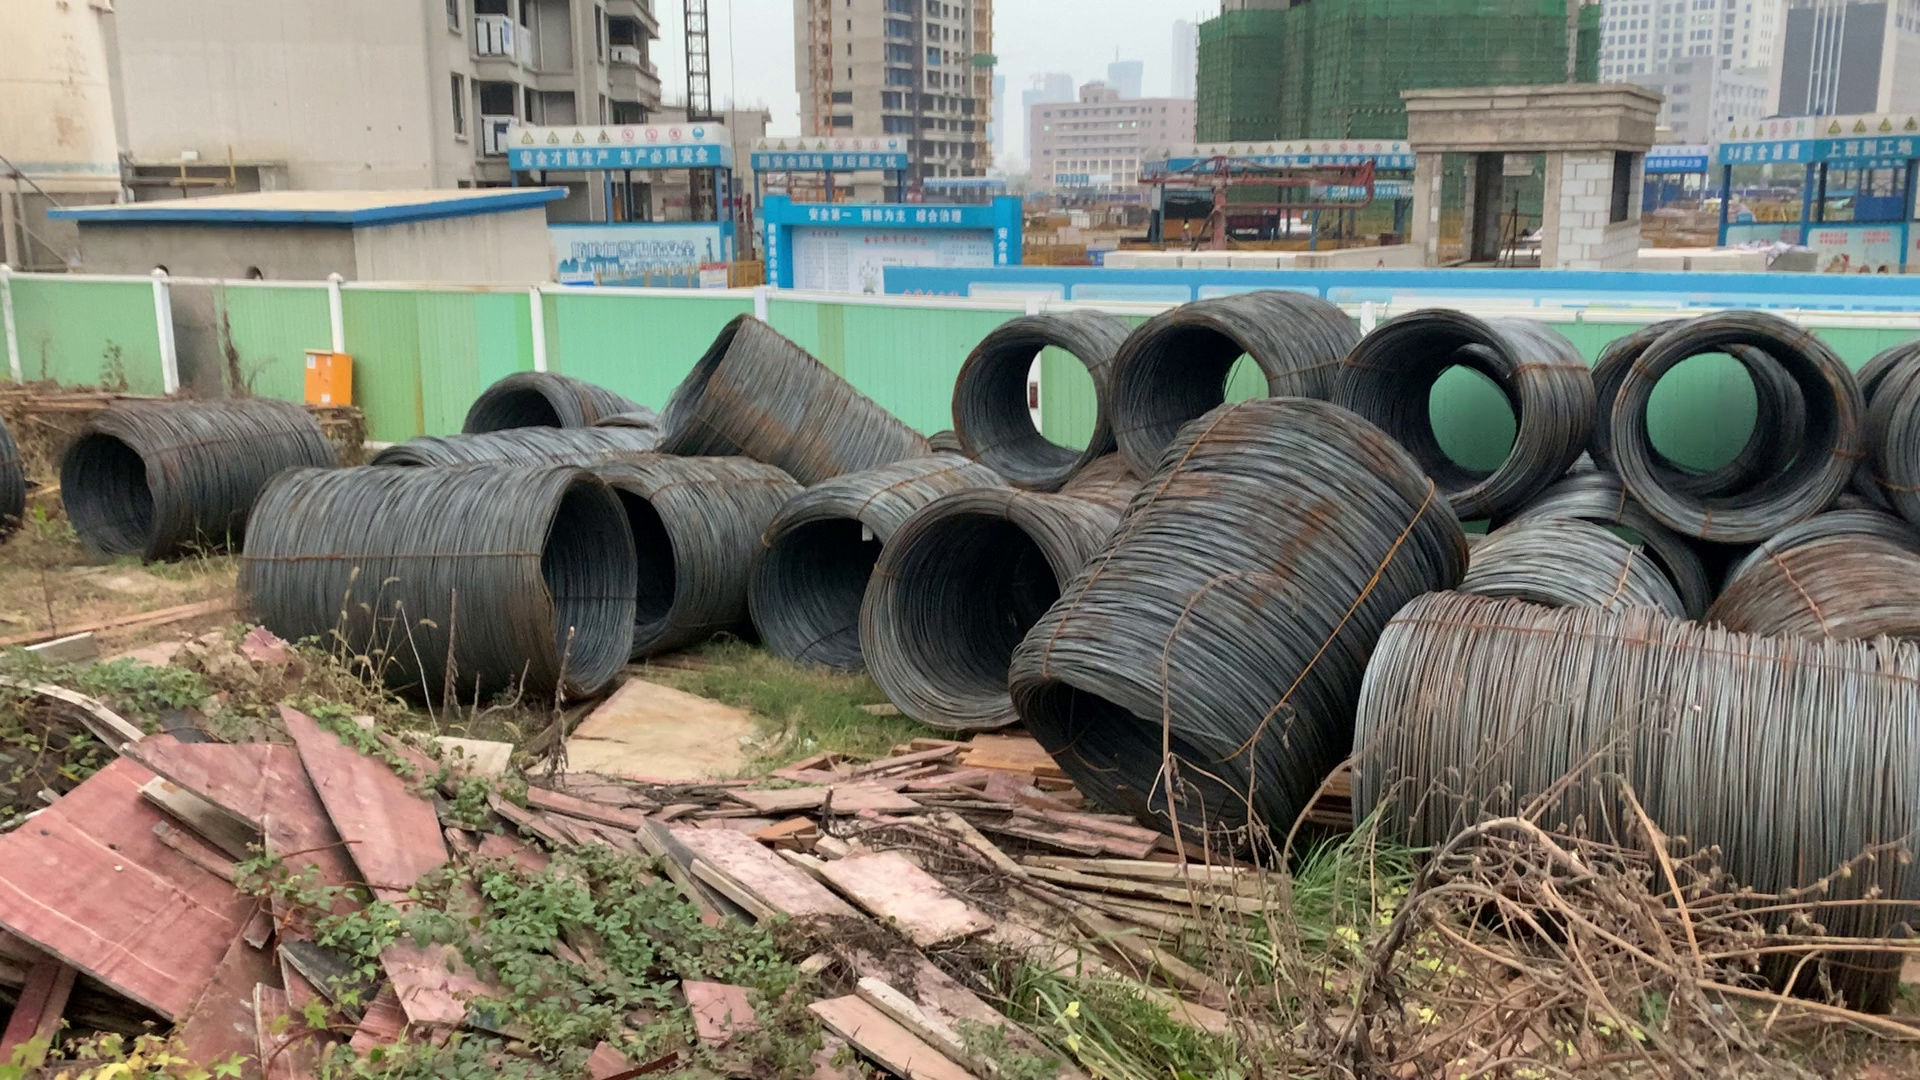coil: (1621, 313, 1854, 546), (990, 669, 1265, 857), (860, 493, 1065, 738), (1332, 310, 1535, 527), (1104, 307, 1284, 498), (945, 316, 1110, 491), (541, 479, 649, 699), (752, 496, 885, 674), (38, 418, 179, 568), (649, 305, 749, 440), (618, 465, 684, 663), (454, 375, 578, 427)
